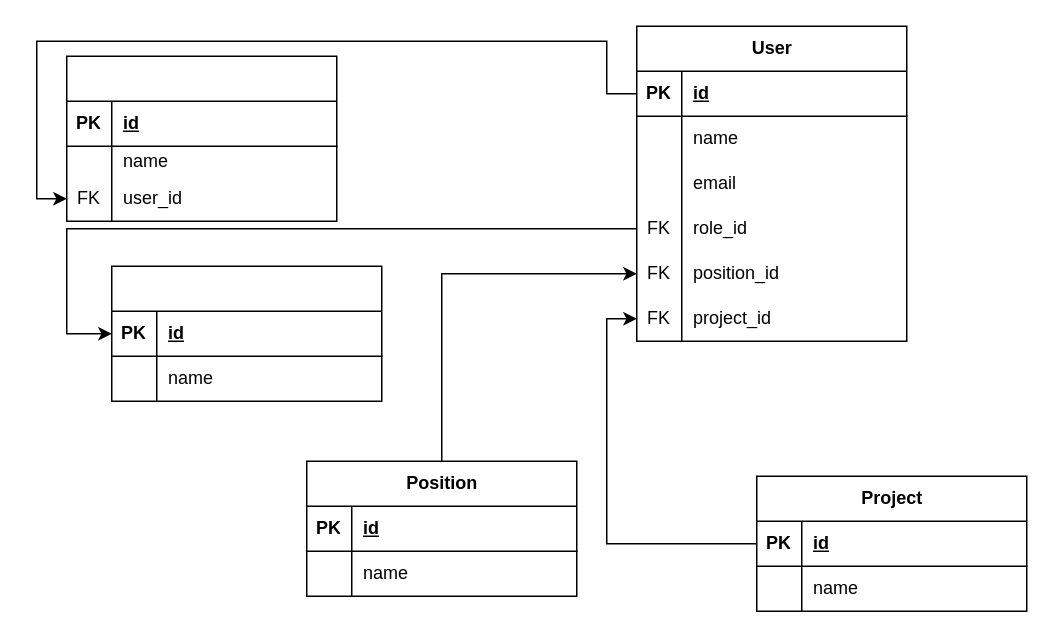
The diagram is 1053 pixels wide and 638 high, and some of its shapes have lost their labels. Each missing label, with the box of its shape:
Department: (65, 55, 337, 221)
Role: (110, 265, 382, 401)
